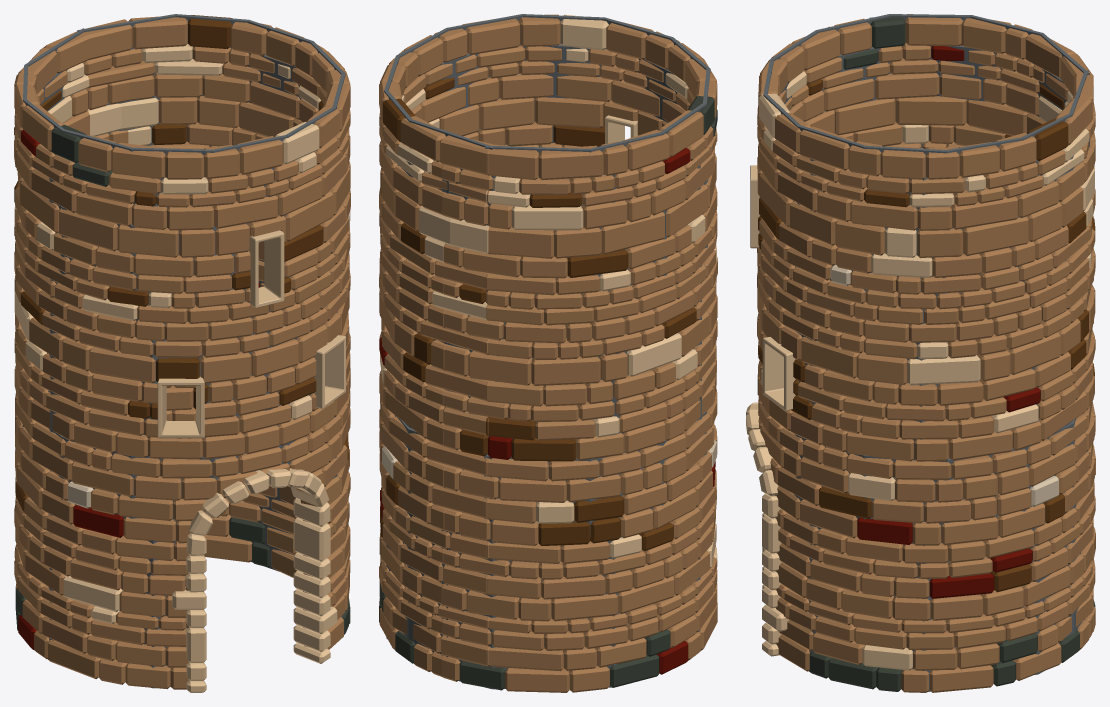
Rendered from two-sections.glb.
3 renders of one model, left to right at view 1: azimuth 30°, elevation 25°; view 2: azimuth 150°, elevation 25°; view 3: azimuth 270°, elevation 25°, orthographic.
Parts seen in each view (by area): view 1: main-wall.207, main-wall, main-wall.001, doorframe, grout-wall.002, upper-slit-frame, left-slit-frame, right-slit-frame, grout-wall.001, grout-wall; view 2: main-wall.207, main-wall, main-wall.001, grout-wall.002, grout-wall, upper-slit-frame, grout-wall.001; view 3: main-wall.207, main-wall, main-wall.001, grout-wall.002, doorframe, right-slit-frame, grout-wall, upper-slit-frame, grout-wall.001.
Part boxes in pixels (<box>): main-wall.207: <box>14,96,350,459</box>; main-wall: <box>14,385,350,689</box>; main-wall.001: <box>14,15,350,230</box>; doorframe: <box>172,468,337,692</box>; grout-wall.002: <box>23,14,345,229</box>; upper-slit-frame: <box>249,230,284,307</box>; left-slit-frame: <box>157,376,204,438</box>; right-slit-frame: <box>313,335,345,409</box>; grout-wall.001: <box>23,94,337,456</box>; grout-wall: <box>22,388,342,688</box>; main-wall.207: <box>379,97,717,461</box>; main-wall: <box>379,388,717,692</box>; main-wall.001: <box>379,14,717,230</box>; grout-wall.002: <box>384,14,710,225</box>; grout-wall: <box>386,411,706,689</box>; upper-slit-frame: <box>605,115,637,143</box>; grout-wall.001: <box>404,97,708,454</box>; main-wall.207: <box>757,96,1095,461</box>; main-wall: <box>758,397,1095,692</box>; main-wall.001: <box>757,14,1095,230</box>; grout-wall.002: <box>763,14,1089,229</box>; doorframe: <box>746,402,789,656</box>; right-slit-frame: <box>762,337,795,411</box>; grout-wall: <box>762,405,1085,692</box>; upper-slit-frame: <box>750,165,760,248</box>; grout-wall.001: <box>793,125,1070,459</box>.
Bounding box in the file's own units: 2 × 3.52 × 2.06.
